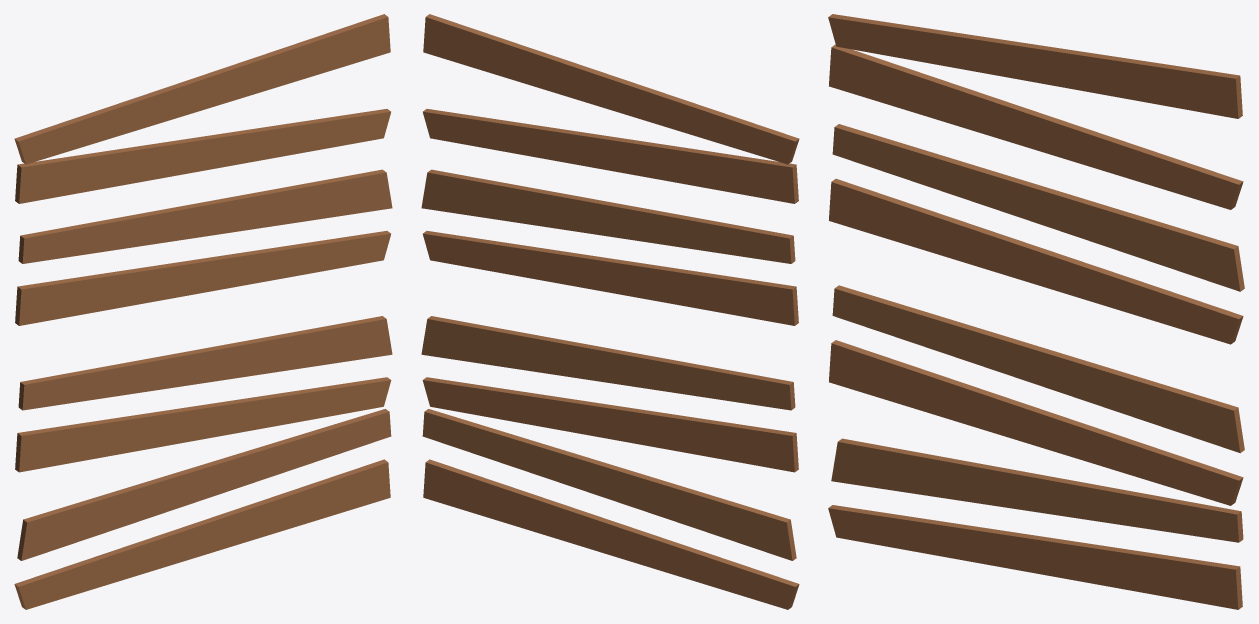
Rendered from WindowAcc_PlanksV2.fbx.
3 views of the same model, side by side, from view 1: azimuth 30°, elevation 25°; view 2: azimuth 150°, elevation 25°; view 3: azimuth 330°, elevation 25° (orthographic). The views are drawn at different scales.
Parts seen in each view (by area): view 1: WindowAcc_PlanksV2; view 2: WindowAcc_PlanksV2; view 3: WindowAcc_PlanksV2.
Boxes of the visible parts, bbox=[...] form: WindowAcc_PlanksV2: bbox=[14, 14, 392, 609]; WindowAcc_PlanksV2: bbox=[421, 14, 799, 609]; WindowAcc_PlanksV2: bbox=[828, 14, 1244, 609].
Bounding box in the file's own units: 64.16 × 82.71 × 1.22.
